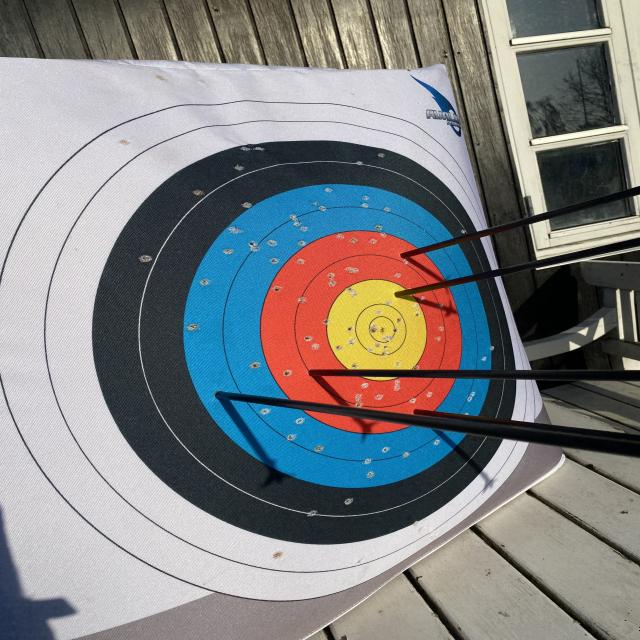Arrow_Blue: (194, 376, 258, 414)
Arrow_Red: (372, 237, 430, 272), (292, 352, 338, 390), (399, 391, 445, 423)
Arrow_Yellow: (393, 275, 439, 311)
